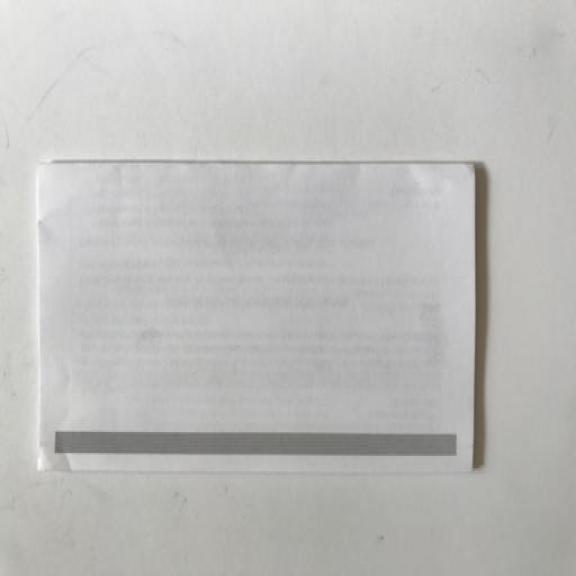Kertas: (25, 135, 490, 496)
